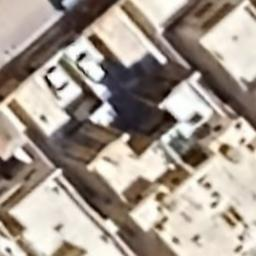SUV: (43, 64, 74, 102)
unknown: (65, 44, 106, 82)
